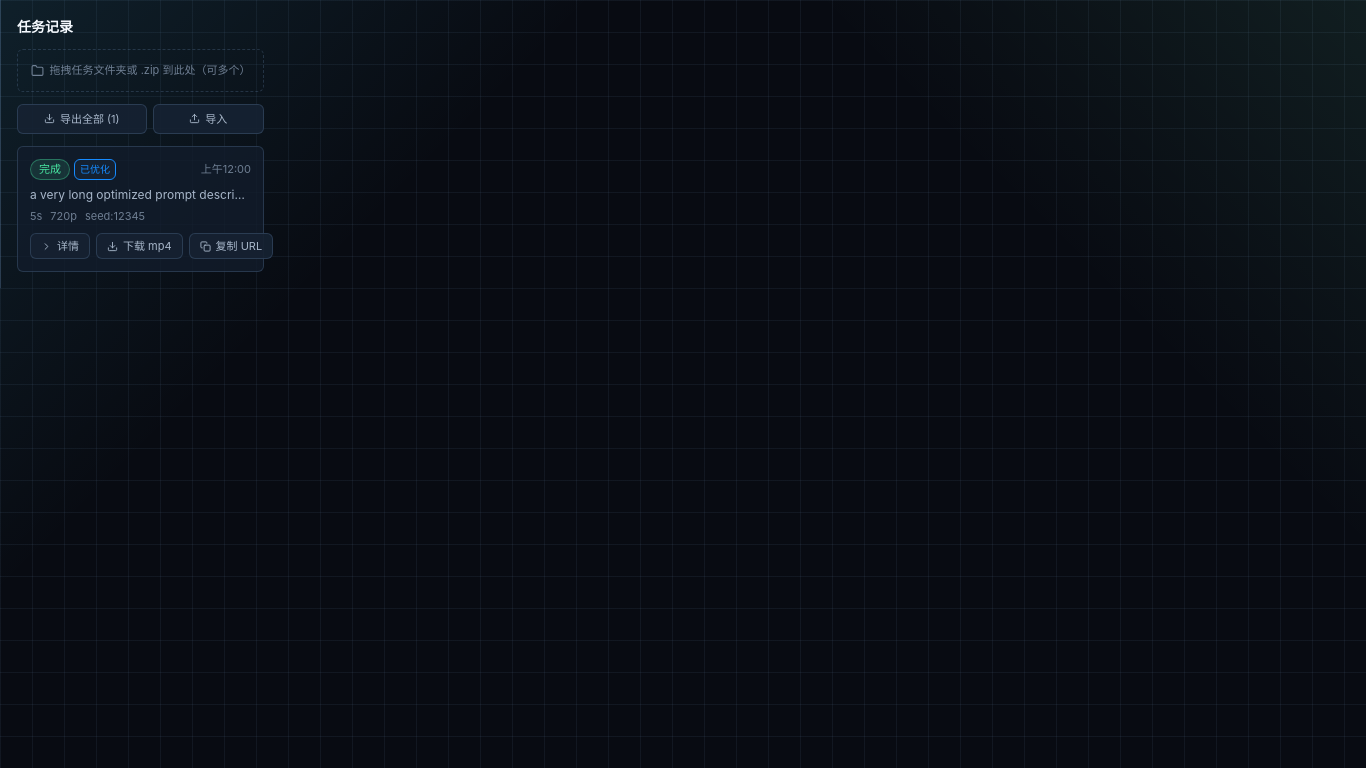
Test: VideoHistory — 详情 展开（prompt 与完整参数） › collapses details by default and reveals full prompt, original prompt and params on toggle
Expected: the text "原始 Prompt" is not shown
Expected: the text "seedance-2-5" is not shown
Toggle open
Click the button "详情" at (60, 246), box [30,233,90,259]
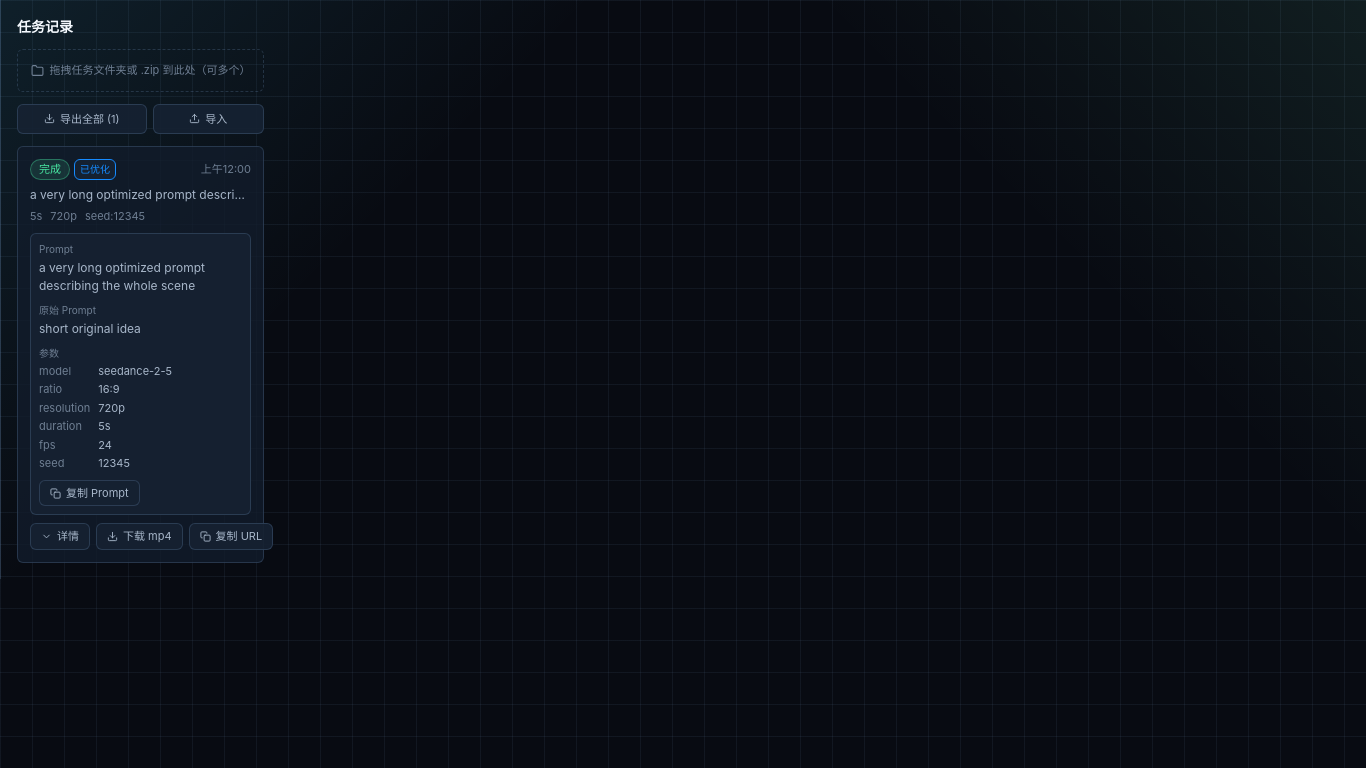
Expected: the 2nd text "a very long optimized prompt describing the whole scene" is shown, [39,260,208,293]
Expected: the text "原始 Prompt" is shown, [39,304,96,316]
Expected: the text "short original idea" is shown, [39,321,141,336]
